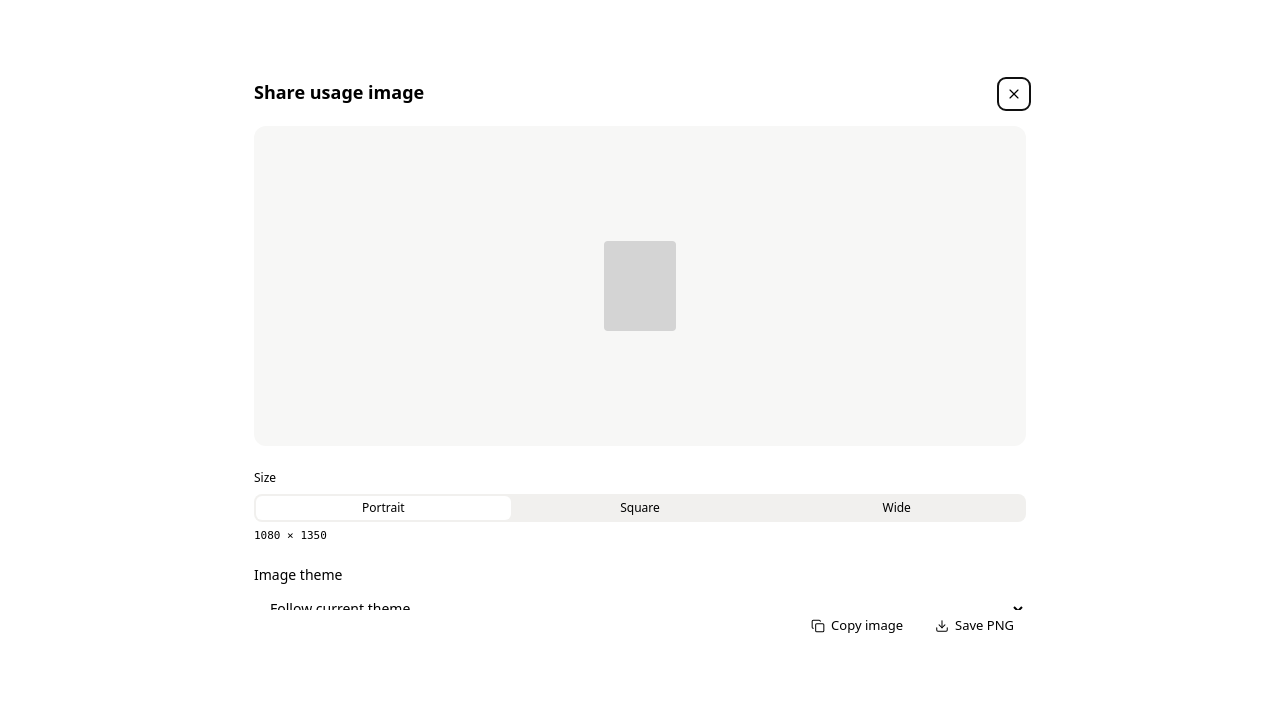
Test: ShareImageDialog › copies the image to the clipboard and says so, or says it could not
The width and height of the screenshot is (1280, 720).
Click the button "Copy image".
click(857, 626)  # box 799,610 -> 915,642
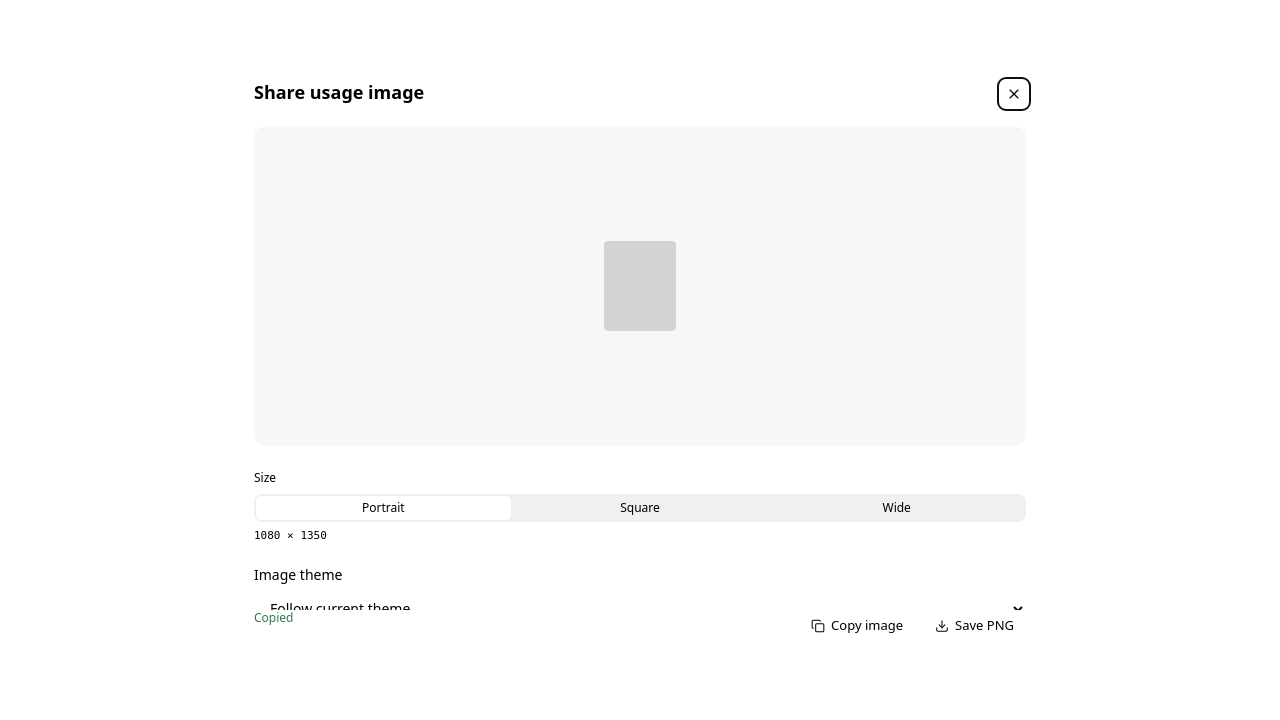
Check: the message reads "Copied", box 254,609 -> 294,626
Click the button "Copy image".
click(857, 626)  # box 799,610 -> 915,642
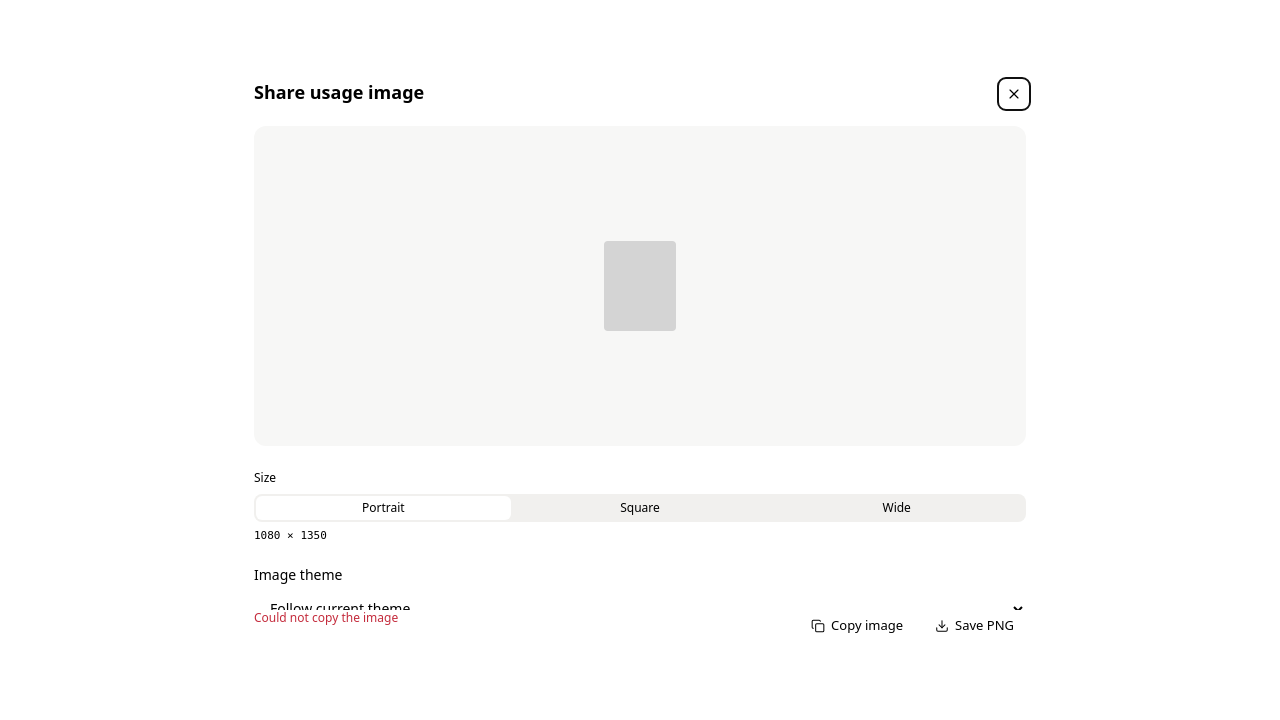
Check: the message reads "Could not copy the image", box 254,609 -> 398,626
